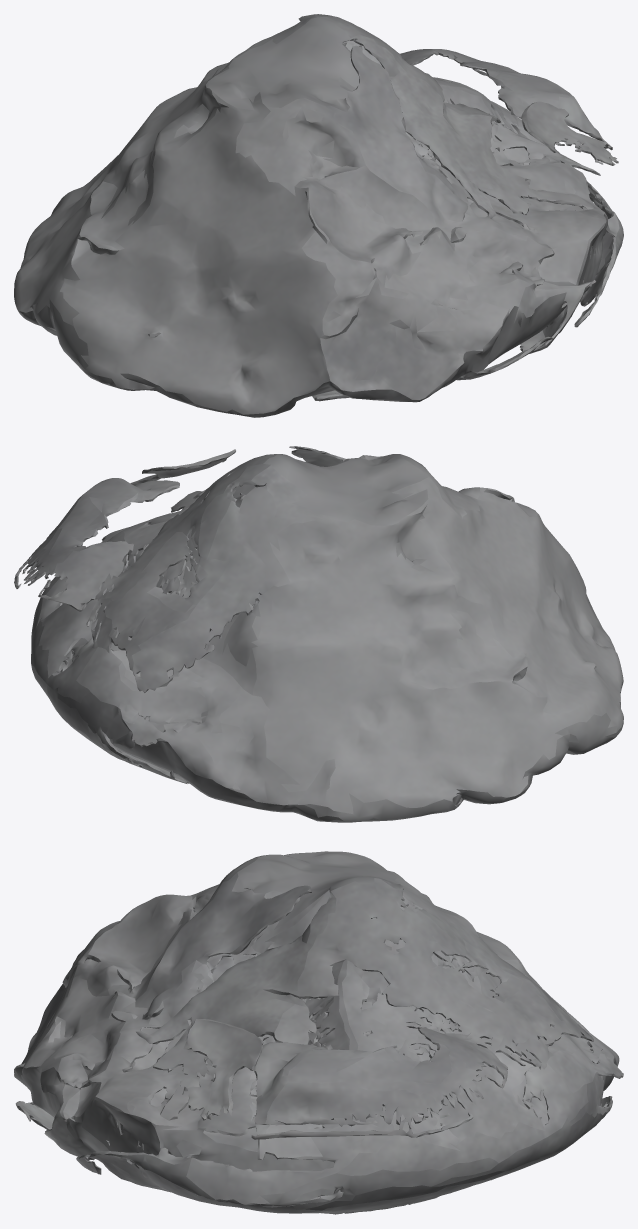
3 views of the same model, one above another, from view 1: azimuth 30°, elevation 25°; view 2: azimuth 150°, elevation 25°; view 3: azimuth 270°, elevation 25° (orthographic).
Visible parts, largest first — view 1: world; view 2: world; view 3: world.
Boxes of the visible parts, <box> form: world: <box>14,14,623,417</box>; world: <box>14,446,623,822</box>; world: <box>14,851,623,1214</box>.
Bounding box in the file's own units: 0.45 × 0.2085 × 0.4502.
Materials: 1 (1 with a texture image).
